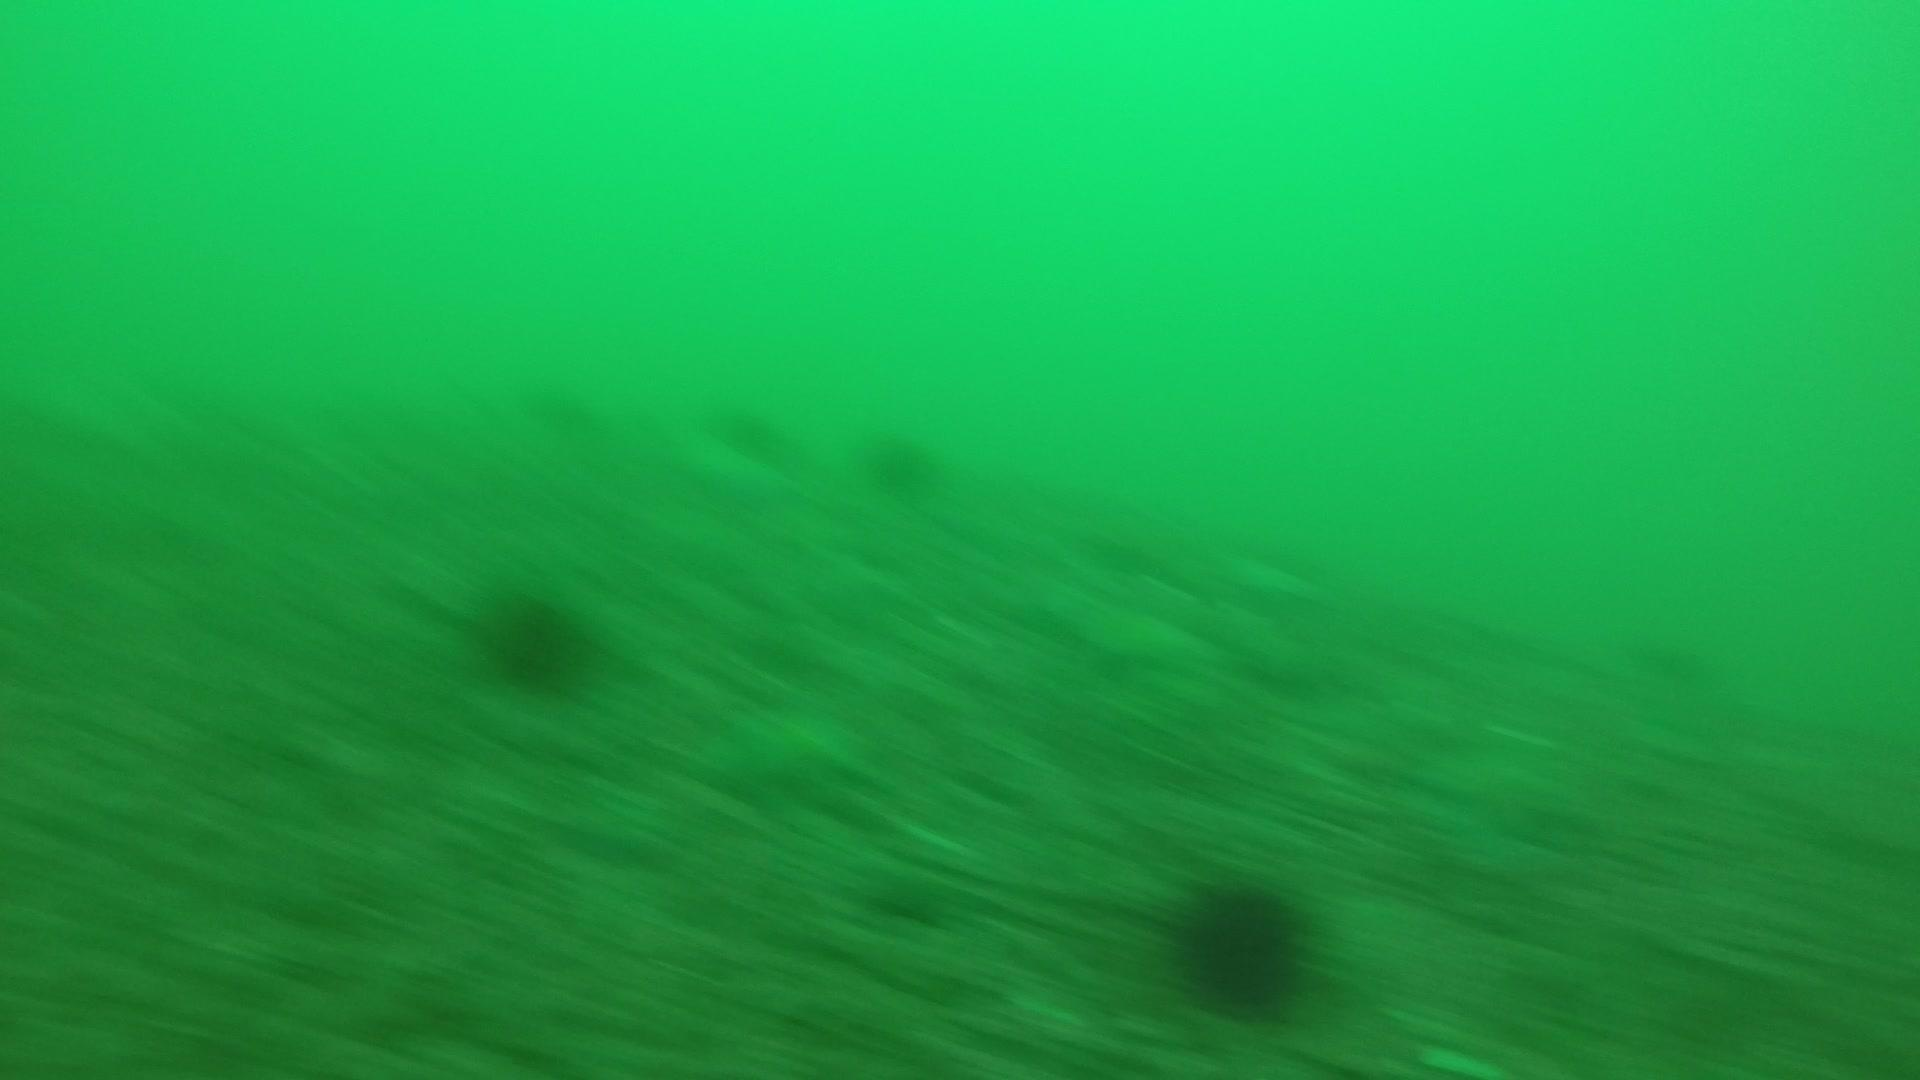echinus: (1167, 872, 1316, 1018), (468, 582, 599, 698), (858, 422, 944, 498)
starfish: (698, 690, 872, 807)
